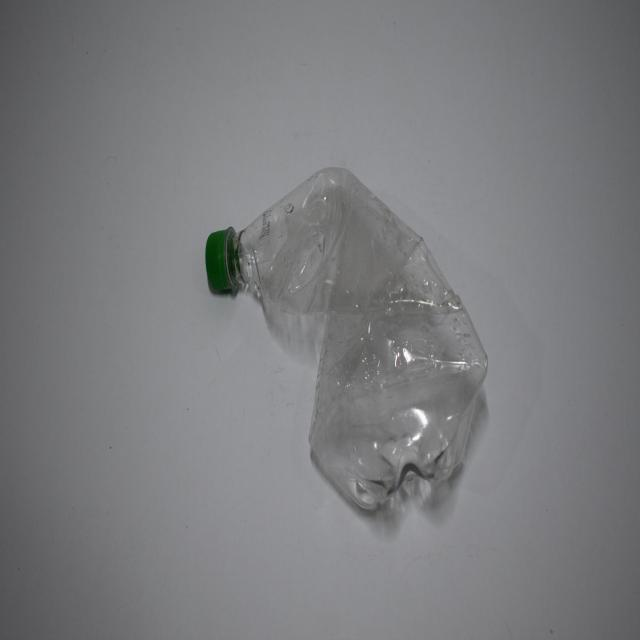bottle: (187, 160, 519, 526)
